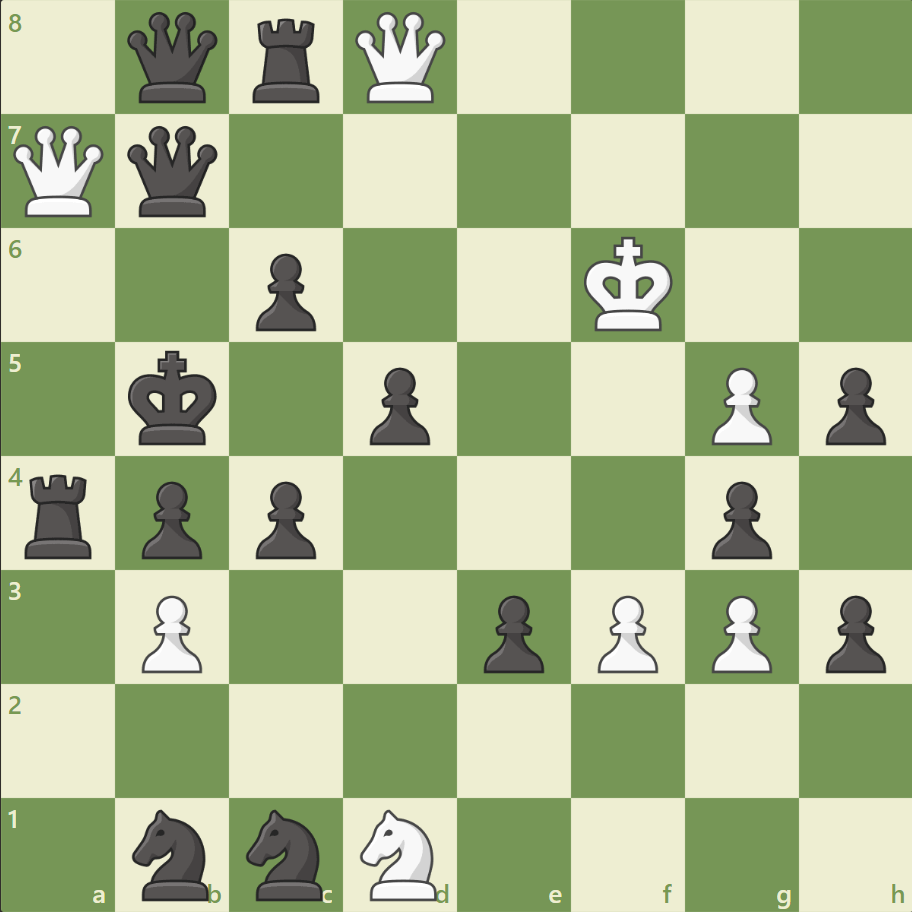K: (579, 231, 679, 339)
N: (351, 802, 449, 904)
P: (701, 359, 776, 450), (133, 586, 208, 677), (701, 586, 776, 677), (588, 586, 662, 677)
Q: (10, 122, 109, 222), (351, 9, 450, 108)
k: (124, 344, 224, 452)
n: (124, 802, 222, 904), (238, 802, 335, 904)
p: (247, 246, 322, 337), (133, 473, 208, 564), (247, 473, 322, 564), (701, 473, 776, 564), (474, 586, 549, 677), (361, 359, 435, 450), (815, 359, 889, 450), (815, 586, 889, 677)
q: (124, 122, 223, 222), (124, 9, 223, 108)
r: (246, 12, 329, 109), (19, 466, 102, 563)
